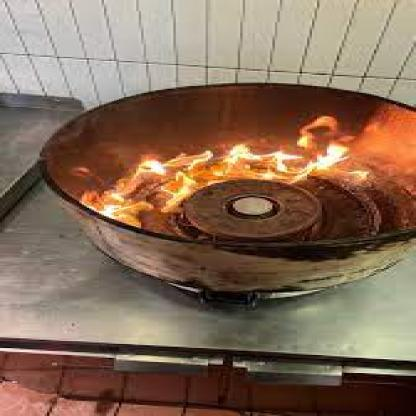fire: (84, 117, 381, 233)
